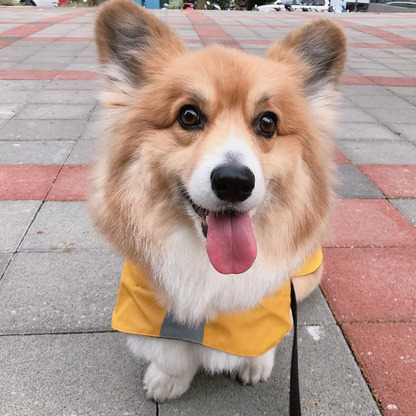Corgi: (81, 5, 366, 393)
